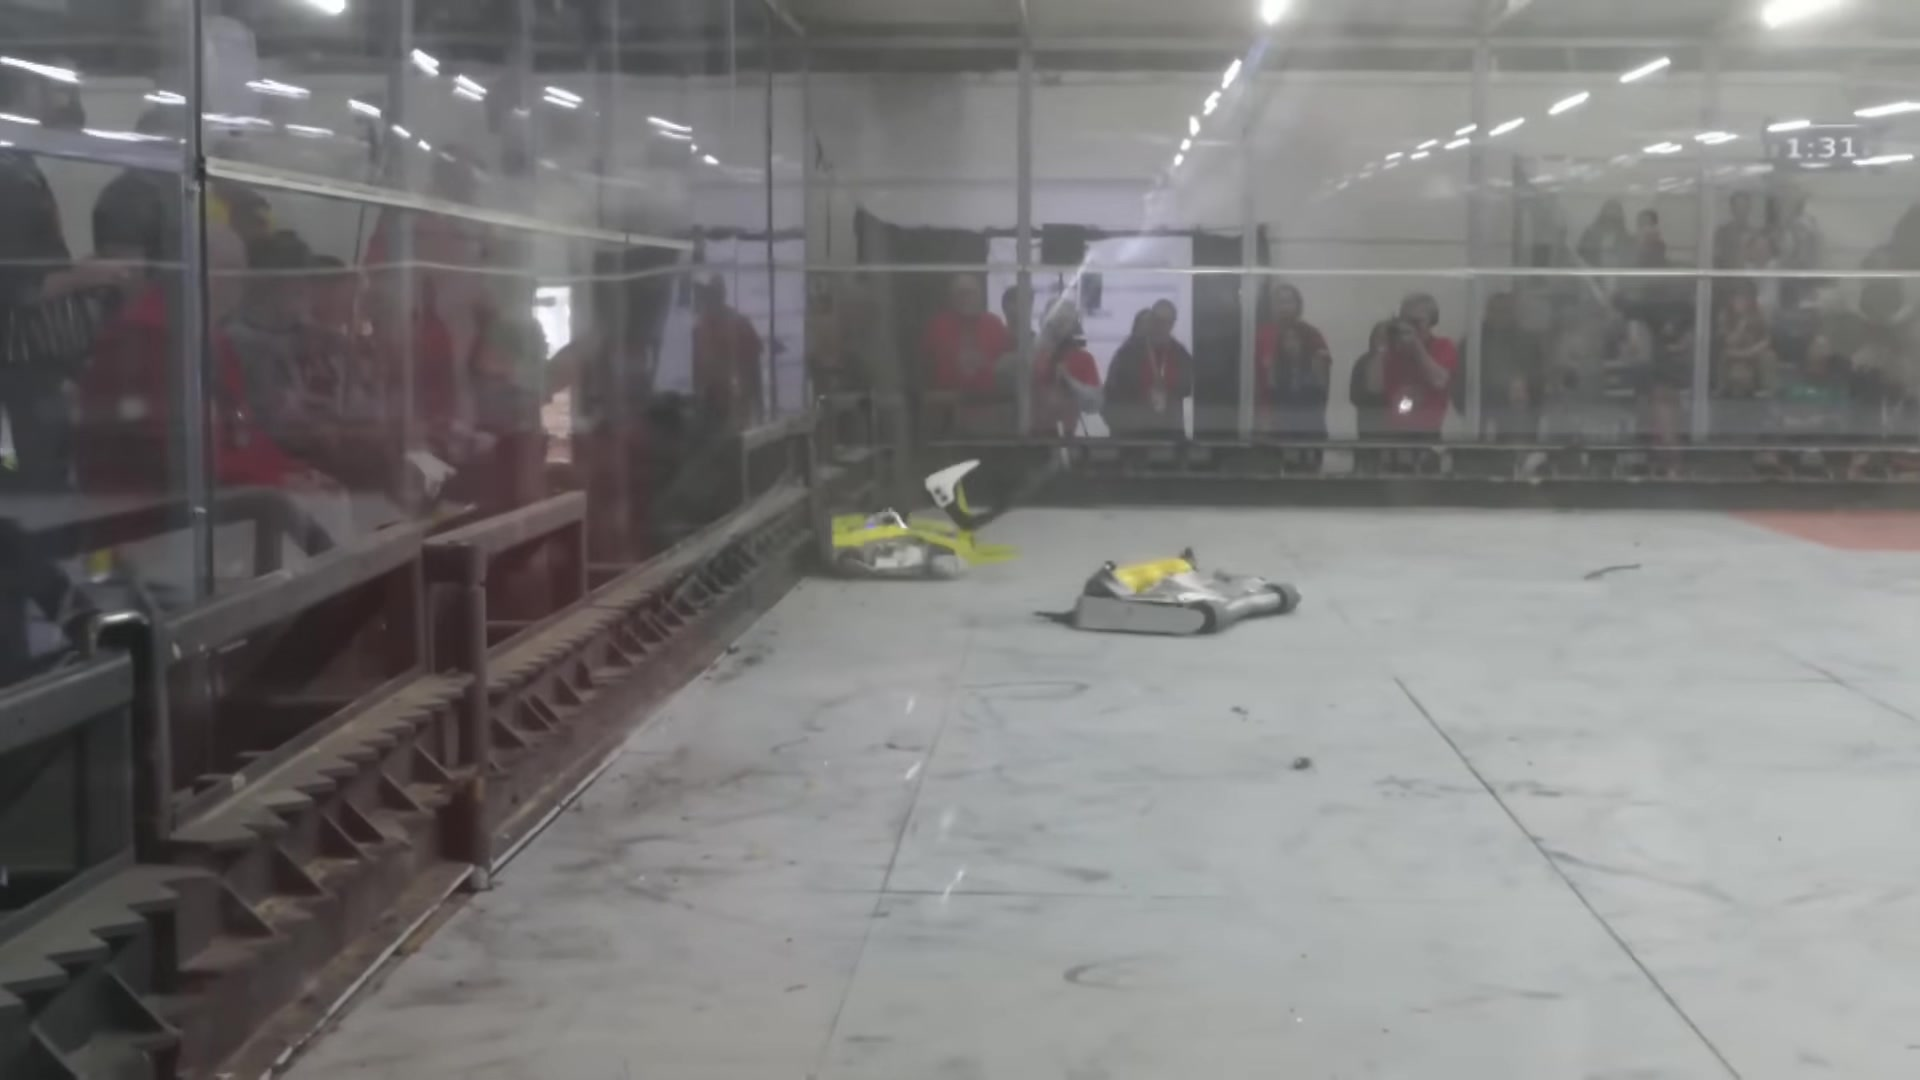belt: (1588, 558, 1642, 588)
combatbot: (1035, 550, 1295, 642), (829, 460, 1021, 578)
